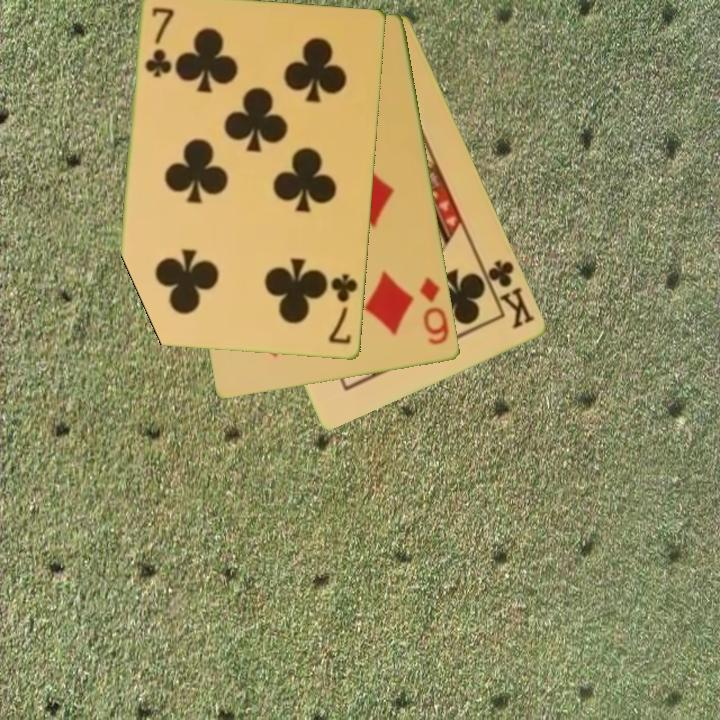6d: (417, 274, 452, 348)
7c: (326, 271, 361, 348), (142, 4, 177, 81)
Kc: (478, 256, 538, 332)
